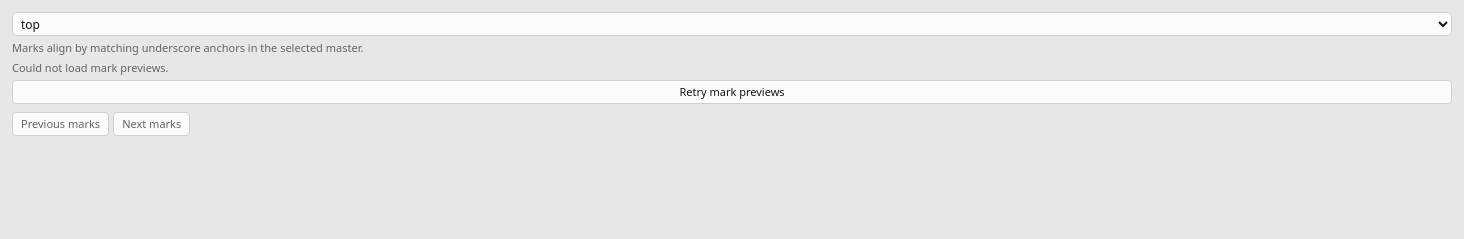
Test case: matching mark preview › reports failures and retries the page
Expected: the message shows "Could not load mark previews.", [12,60,168,75]
Click the button "Retry mark previews" at (732, 92), box [12,80,1452,104]
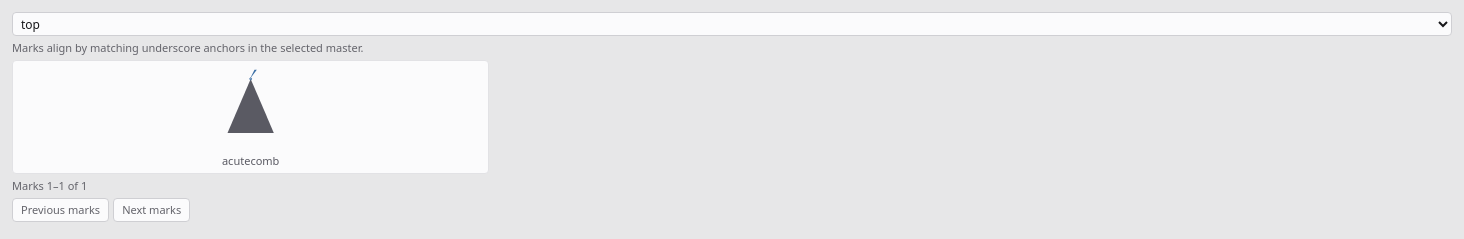
Expected: the picture is shown, [17,65,484,153]
Expected: the message "Could not load mark previews. Retry mark previews" is gone
